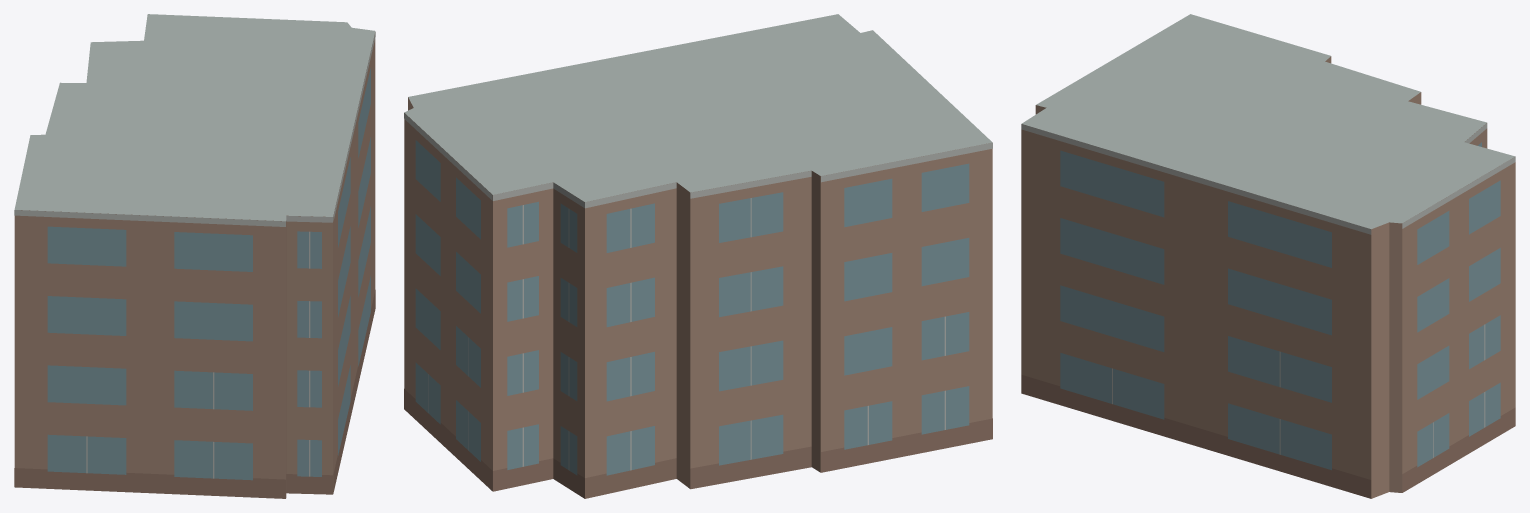
File: survey-upis-32665600.glb
The picture shows the model from 3 angles, left to right: view 1: azimuth 30°, elevation 25°; view 2: azimuth 150°, elevation 25°; view 3: azimuth 270°, elevation 25°; orthographic projection. The views are drawn at different scales.
Parts seen in each view (by area): view 1: survey-upis-32665600.tmp; view 2: survey-upis-32665600.tmp; view 3: survey-upis-32665600.tmp.
Boxes of the visible parts, x1,y1,x2,y2 form: survey-upis-32665600.tmp: (14,14,375,498); survey-upis-32665600.tmp: (404,14,992,498); survey-upis-32665600.tmp: (1021,14,1515,498).
Bounding box in the file's own units: 20.04 × 11.7 × 19.44.
